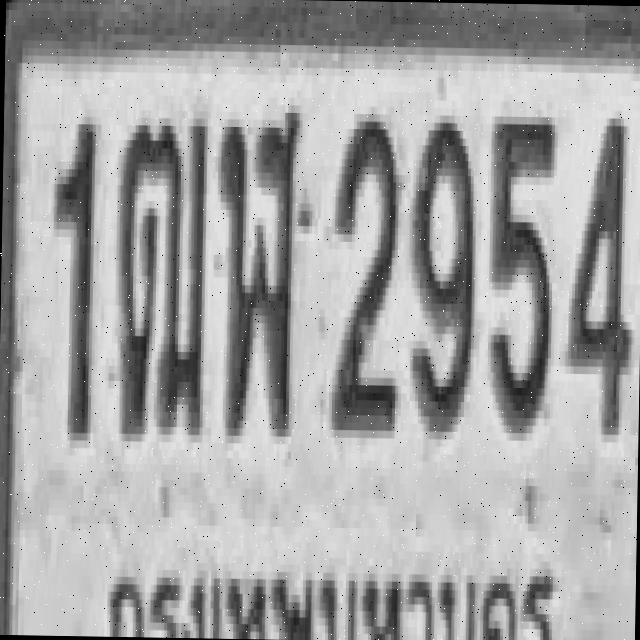1: (49, 116, 95, 440)
2: (328, 110, 400, 434)
27ThorPhuThao: (114, 109, 209, 435)
4: (565, 110, 634, 435)
5: (488, 109, 556, 434)
51LorChula: (215, 104, 301, 436)
9: (407, 115, 476, 432)
